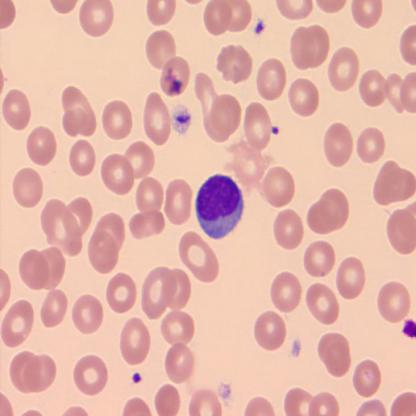Lymphocyte: (195, 172, 244, 240)
